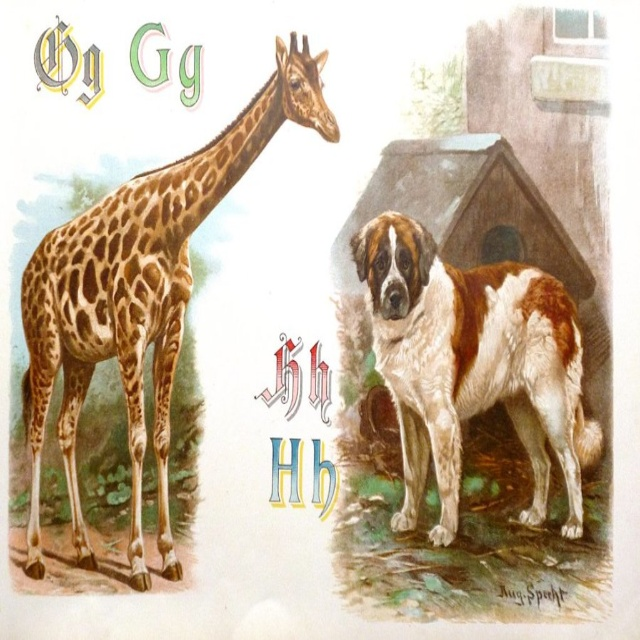Giraffe: (18, 26, 339, 588)
